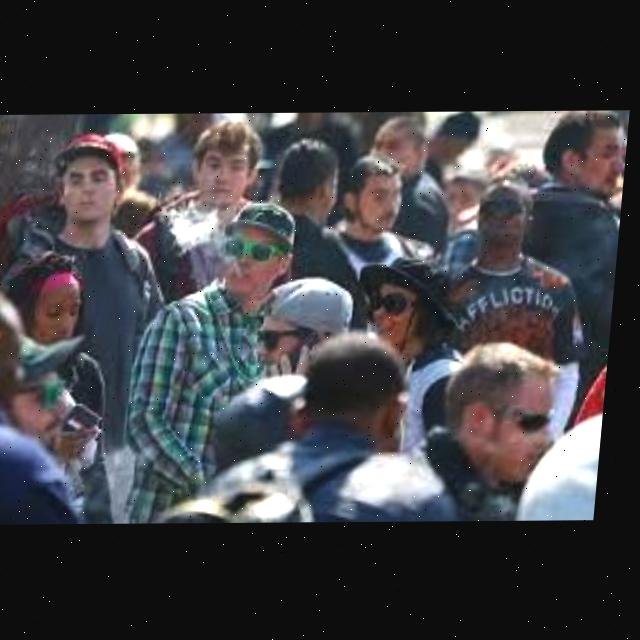cigarette: (237, 261, 249, 278)
